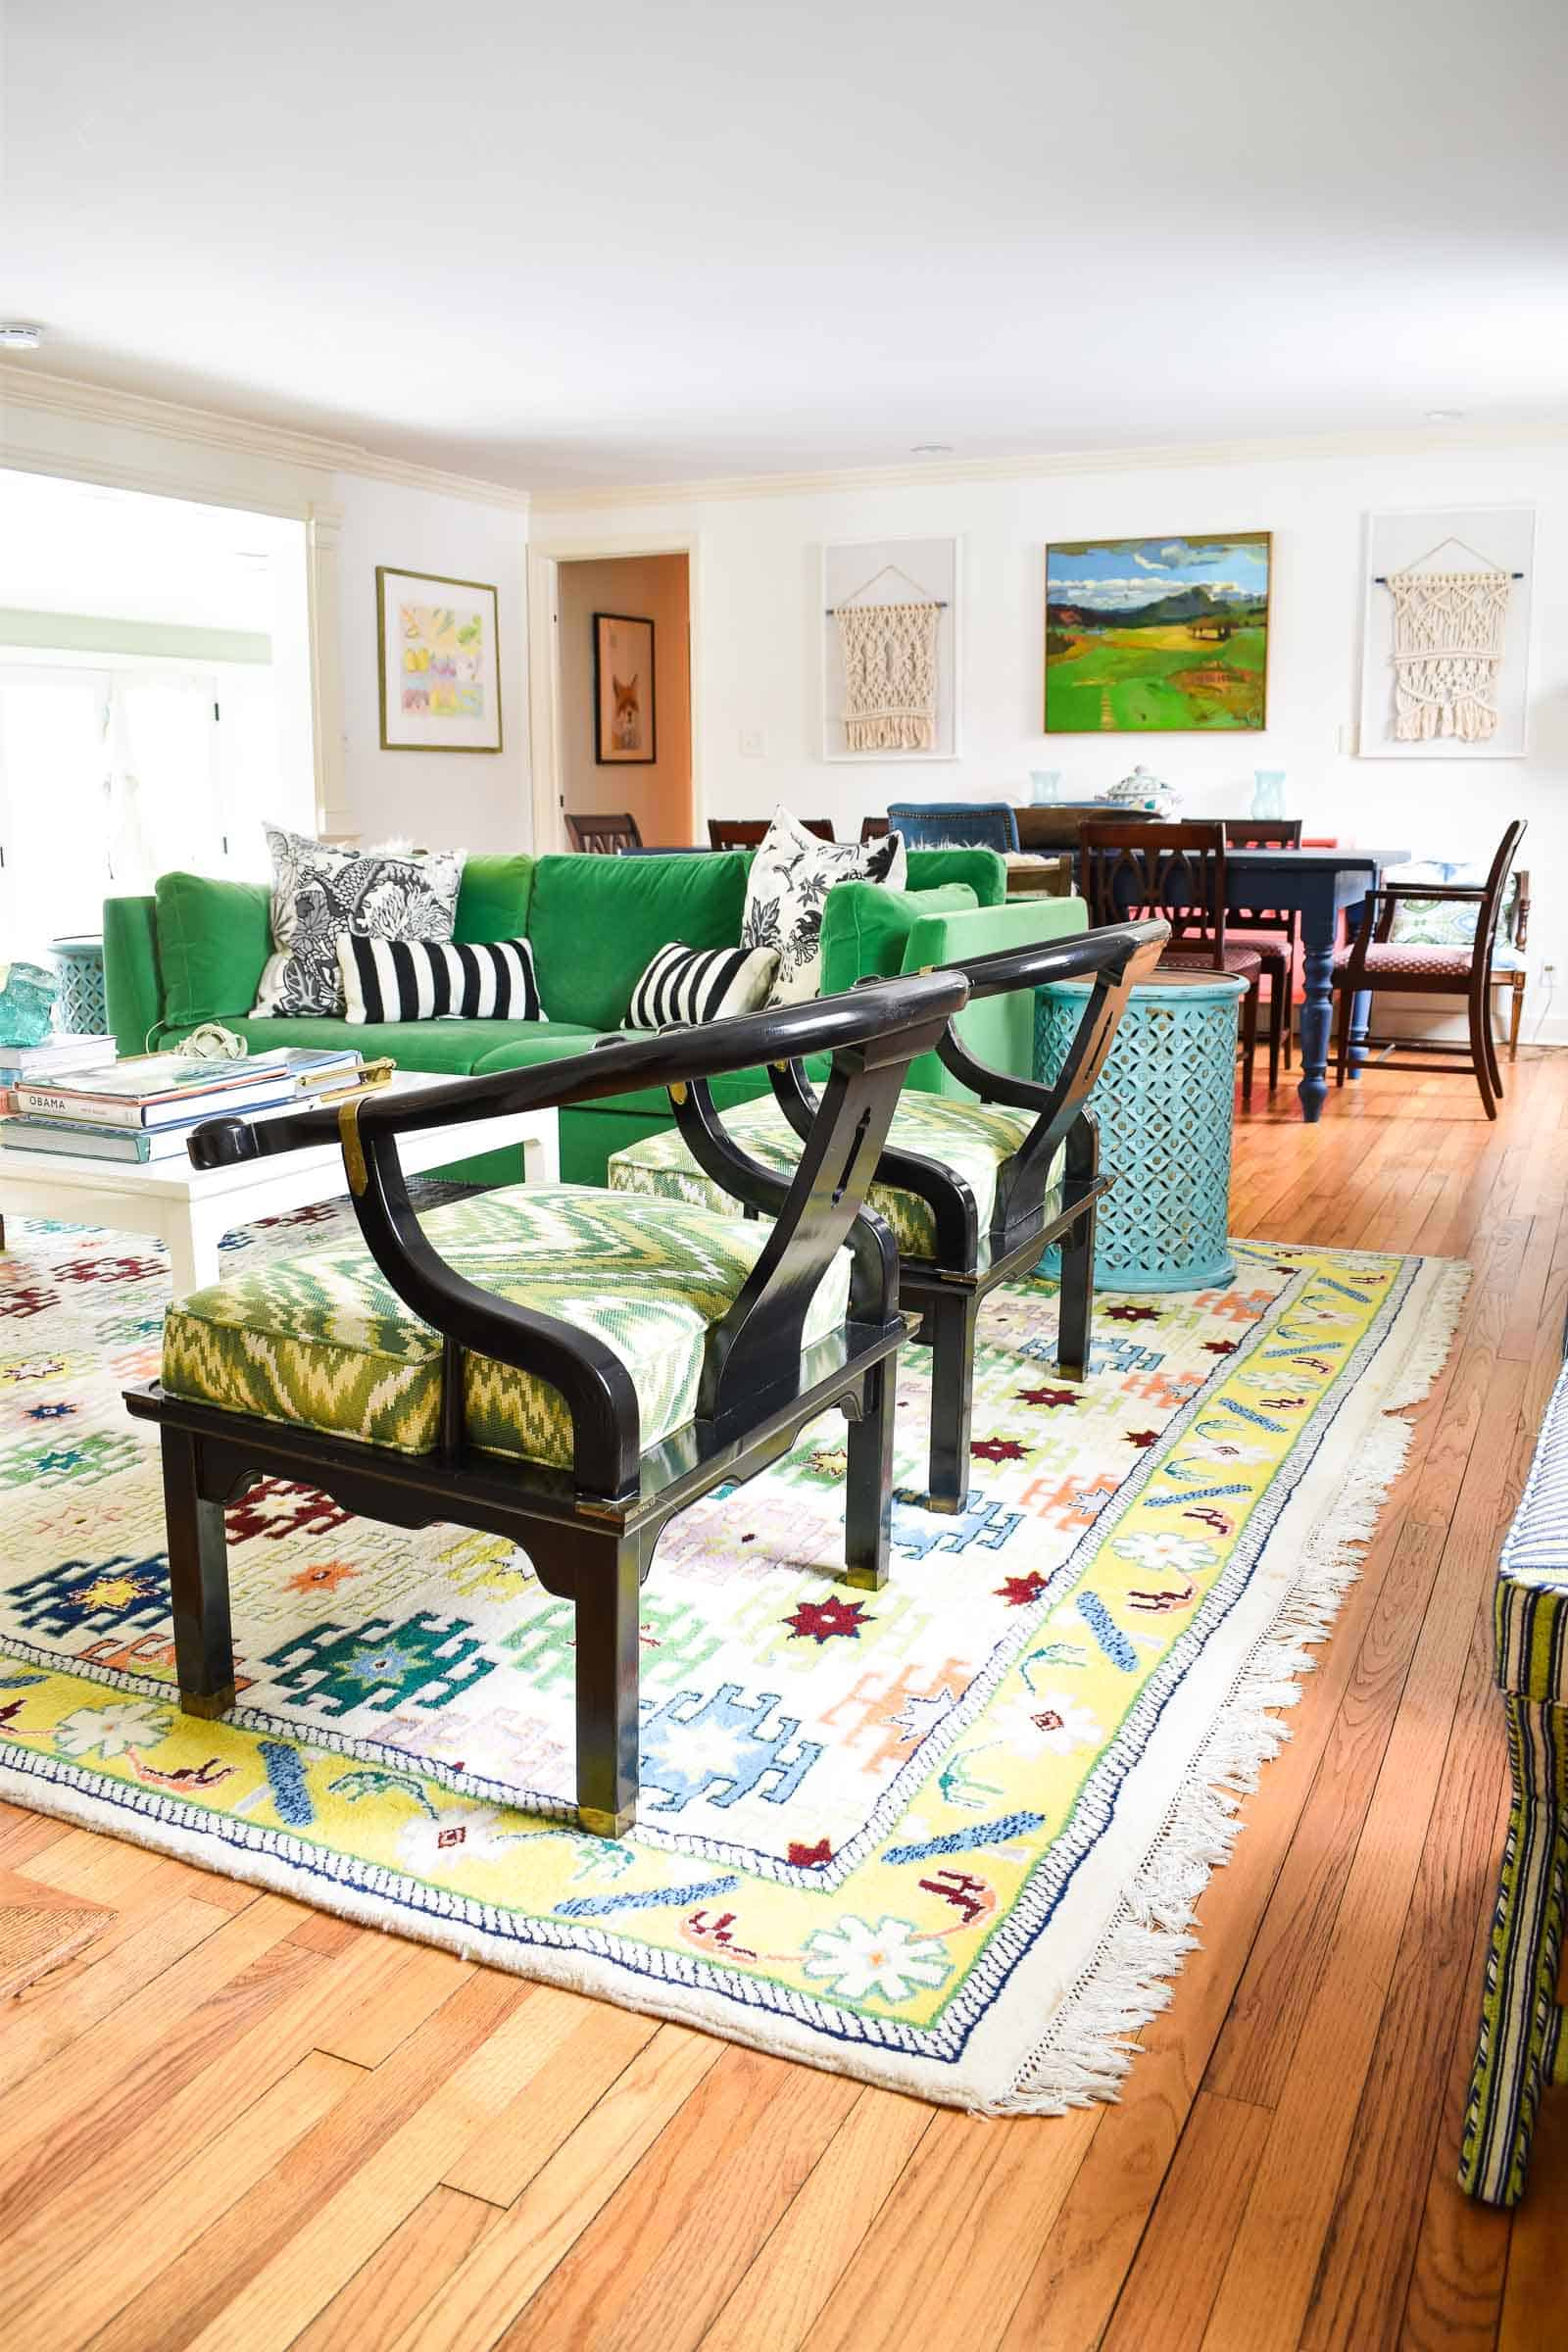biru: (1137, 990, 1230, 1297)
hijau: (544, 850, 667, 1013), (115, 894, 250, 1024)
